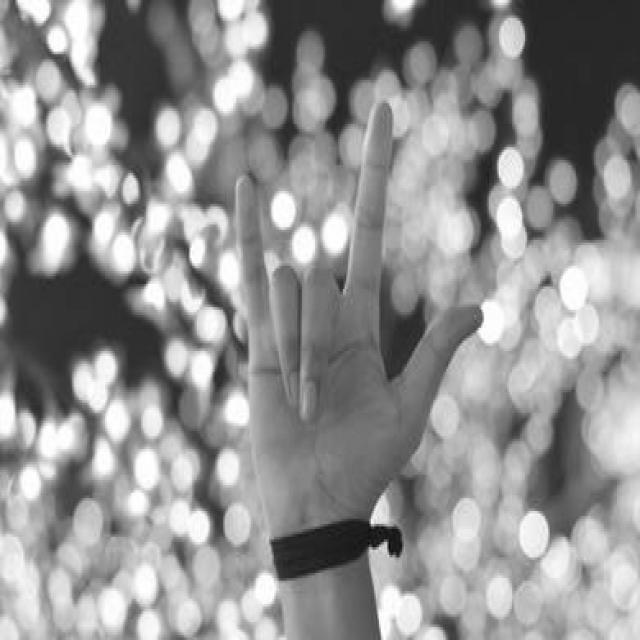i love you: (232, 92, 487, 530)
